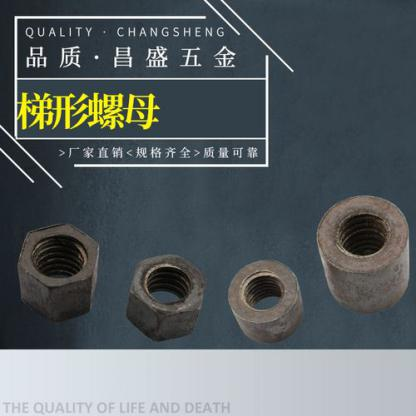FOD: (315, 191, 412, 314), (16, 218, 100, 322), (123, 251, 206, 342), (225, 259, 304, 345)
